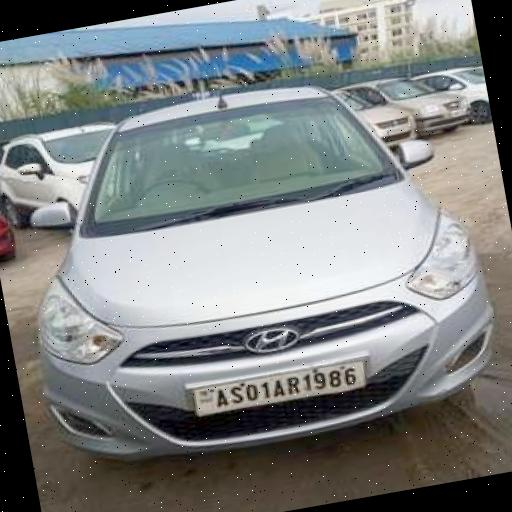license_plate`: (188, 356, 366, 413)
